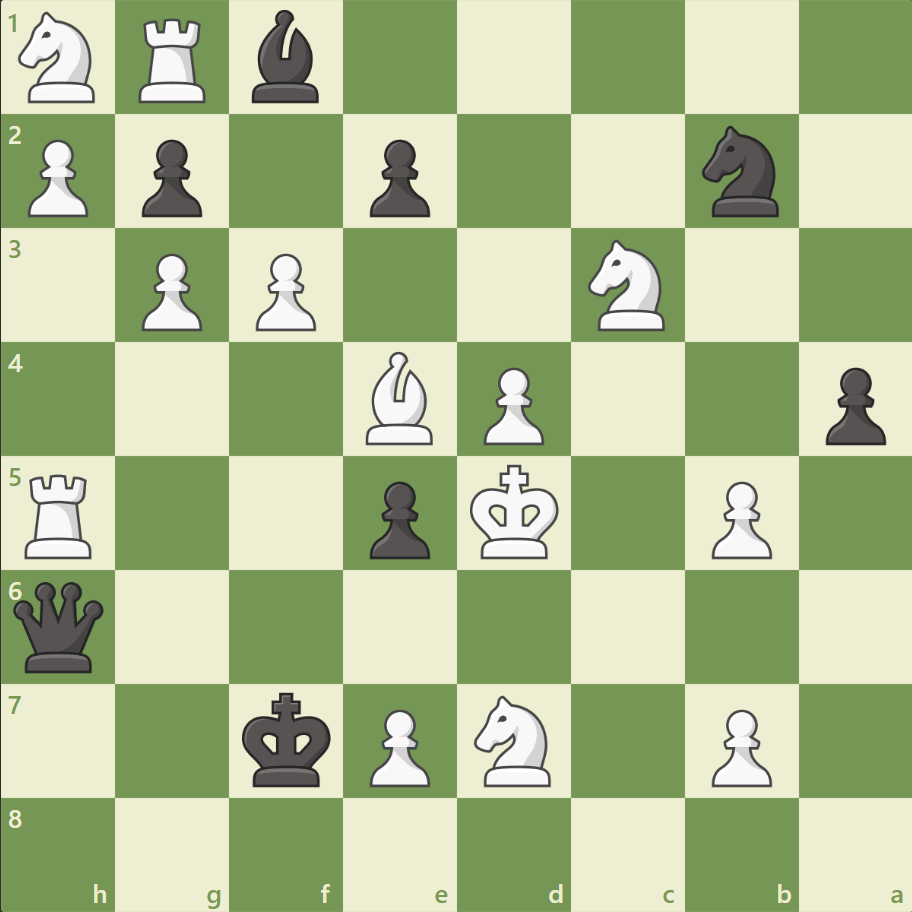B: (358, 347, 442, 449)
K: (465, 458, 565, 566)
N: (465, 688, 562, 791), (579, 234, 676, 337), (11, 7, 108, 110)
P: (701, 700, 776, 791), (701, 473, 776, 564), (474, 359, 549, 450), (247, 246, 322, 337), (133, 246, 208, 337), (20, 132, 95, 223), (361, 700, 435, 791)
R: (19, 466, 102, 563), (133, 12, 215, 109)
b: (244, 6, 328, 109)
k: (238, 685, 338, 793)
n: (692, 121, 789, 223)
p: (133, 132, 208, 223), (361, 473, 435, 564), (815, 359, 889, 450), (361, 132, 435, 223)
q: (10, 576, 109, 676)
